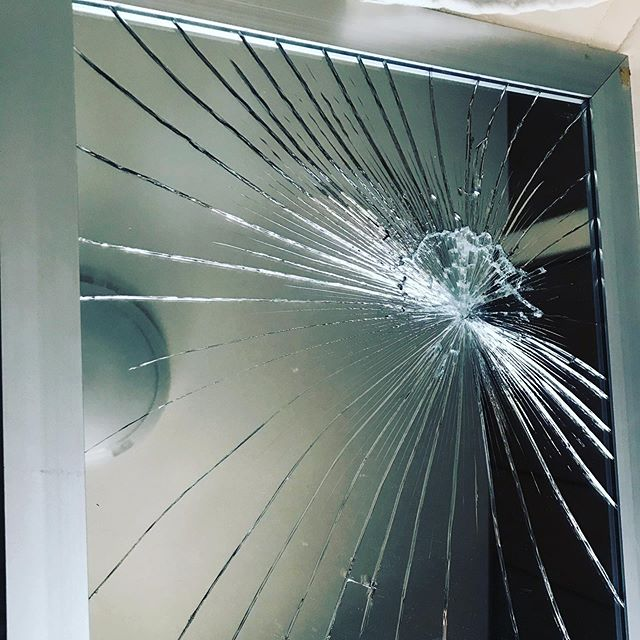window: (59, 2, 609, 640)
